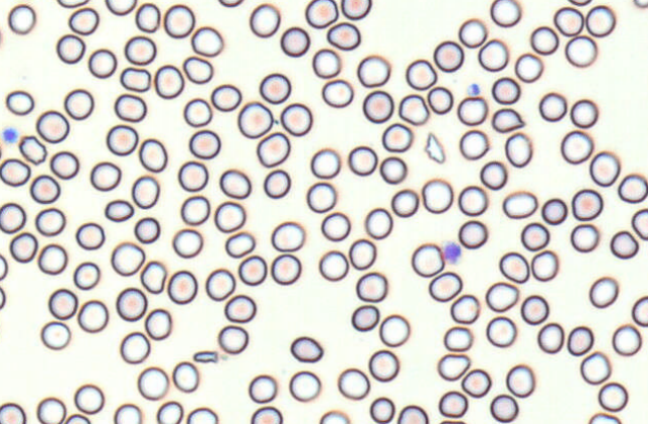PLT: (441, 240, 462, 263), (1, 126, 19, 144), (465, 82, 481, 96)
RBC: (237, 101, 273, 138), (256, 131, 290, 167), (111, 241, 145, 276), (411, 243, 444, 277), (560, 130, 593, 164), (35, 110, 69, 143), (356, 54, 390, 87), (421, 178, 453, 213), (589, 150, 620, 186), (337, 367, 370, 400), (137, 366, 169, 400), (163, 4, 195, 38), (280, 102, 312, 136), (288, 370, 321, 402), (116, 287, 147, 321), (249, 3, 280, 37), (271, 221, 305, 252), (405, 58, 437, 90), (565, 35, 597, 67), (571, 188, 603, 220), (580, 351, 611, 384), (77, 299, 108, 332), (379, 314, 410, 347), (190, 25, 223, 56), (485, 281, 518, 312), (362, 90, 393, 123), (428, 271, 462, 301), (167, 270, 197, 304), (154, 64, 184, 98), (368, 349, 399, 381), (259, 72, 291, 103), (398, 93, 429, 125), (106, 124, 138, 155), (270, 253, 301, 285), (433, 40, 464, 72), (219, 168, 251, 199), (612, 323, 642, 356), (205, 268, 235, 301), (585, 4, 615, 37), (478, 38, 508, 71), (326, 21, 360, 50), (138, 138, 167, 172), (504, 132, 532, 167), (502, 190, 537, 218), (356, 271, 387, 302), (214, 201, 245, 232), (120, 331, 150, 363), (499, 251, 529, 283), (64, 88, 94, 120), (124, 35, 156, 65), (188, 129, 220, 159), (505, 364, 534, 397), (318, 250, 348, 281), (450, 293, 480, 324), (74, 383, 104, 414), (217, 324, 248, 354), (37, 243, 67, 274), (486, 316, 516, 347), (280, 26, 310, 57), (306, 181, 336, 212), (90, 161, 121, 191), (553, 6, 584, 36), (172, 228, 203, 258), (310, 147, 340, 178), (178, 160, 208, 191), (381, 122, 412, 152), (459, 129, 489, 160), (224, 294, 256, 323), (589, 276, 618, 308), (321, 78, 353, 107), (114, 93, 146, 122), (437, 353, 470, 381), (305, 0, 338, 28), (131, 175, 159, 208), (40, 320, 70, 350), (598, 381, 628, 411), (617, 173, 647, 203), (180, 195, 210, 225), (347, 145, 377, 175), (48, 288, 77, 319), (29, 174, 60, 203), (182, 55, 213, 84), (238, 254, 267, 285), (458, 185, 487, 216), (144, 308, 172, 340), (364, 207, 392, 239), (18, 135, 47, 165), (0, 157, 30, 186), (7, 4, 36, 34), (461, 368, 491, 397), (520, 294, 549, 324), (458, 18, 487, 48), (312, 48, 341, 78), (56, 33, 85, 63), (88, 48, 117, 78), (49, 150, 79, 179), (321, 211, 350, 241), (514, 52, 543, 82), (183, 97, 212, 127), (35, 207, 65, 236), (457, 96, 487, 125), (530, 250, 558, 281), (68, 7, 99, 35), (348, 238, 376, 269), (210, 83, 241, 111), (140, 260, 166, 293), (489, 393, 518, 422), (530, 25, 559, 54), (248, 374, 277, 403), (570, 223, 599, 252), (520, 222, 549, 251), (458, 219, 487, 248), (538, 92, 567, 121), (9, 232, 37, 262), (479, 160, 507, 190), (570, 98, 598, 128), (172, 361, 199, 392), (537, 322, 564, 353), (224, 231, 255, 258), (290, 336, 322, 362), (438, 390, 467, 418), (610, 230, 638, 259), (75, 222, 104, 250), (391, 188, 419, 217), (491, 76, 520, 104), (36, 396, 66, 423), (490, 0, 520, 27), (0, 202, 26, 233), (120, 66, 151, 92), (379, 156, 407, 184), (73, 261, 100, 290), (263, 169, 290, 198), (443, 325, 473, 351), (567, 325, 593, 355), (351, 304, 379, 331), (5, 89, 34, 115), (135, 2, 160, 32), (427, 86, 453, 114), (369, 396, 395, 423), (134, 216, 160, 243), (541, 197, 567, 224), (104, 199, 133, 222), (156, 400, 183, 423), (340, 0, 371, 19), (397, 404, 428, 423), (0, 402, 26, 423), (250, 406, 282, 423), (114, 403, 141, 423), (631, 208, 647, 240), (186, 407, 218, 423), (631, 295, 647, 326), (105, 0, 136, 15), (319, 409, 350, 423), (588, 412, 621, 423), (56, 0, 89, 8), (64, 413, 90, 423), (0, 253, 8, 280), (218, 0, 243, 7), (567, 0, 591, 6), (0, 286, 6, 309), (633, 0, 648, 8), (438, 419, 466, 423), (0, 24, 3, 48), (0, 321, 2, 345)
Schistocyte: (492, 109, 528, 132), (425, 133, 446, 165), (194, 351, 219, 364)
